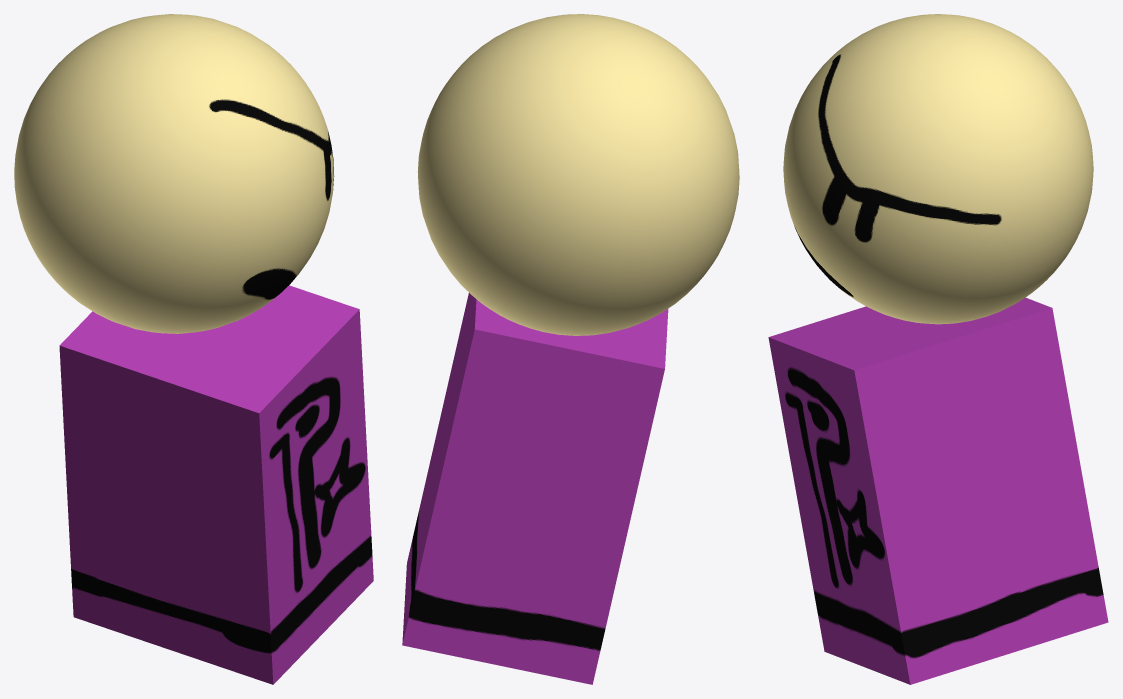
The model's file is Purpleguy-sing.glb.
The picture shows the model from 3 angles, left to right: view 1: azimuth 30°, elevation 25°; view 2: azimuth 150°, elevation 25°; view 3: azimuth 270°, elevation 25°; orthographic projection. The views are drawn at different scales.
Visible parts, largest first — view 1: mesh_id27, mesh_id35; view 2: mesh_id35, mesh_id27; view 3: mesh_id27, mesh_id35.
Part boxes in pixels (box(x1,y1,x2,y2)): mesh_id27: box(59, 285, 373, 684); mesh_id35: box(14, 14, 334, 333); mesh_id35: box(417, 14, 739, 335); mesh_id27: box(402, 293, 668, 684); mesh_id27: box(768, 297, 1108, 684); mesh_id35: box(783, 14, 1093, 324).
Size of the model in its own units: 0.2336 by 0.4295 by 0.2192.
Materials: 2 (2 with a texture image).
